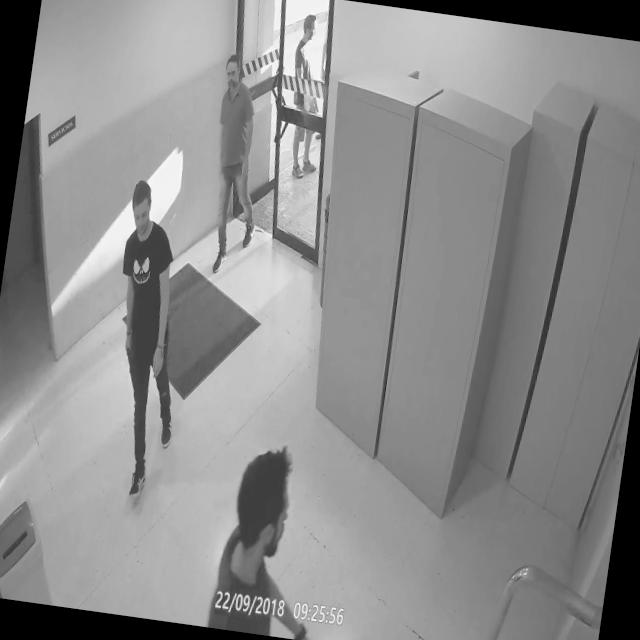gun: (112, 330, 146, 404)
person: (205, 431, 312, 638), (198, 48, 280, 262), (278, 11, 336, 180)
person with a gun: (88, 174, 213, 500)
